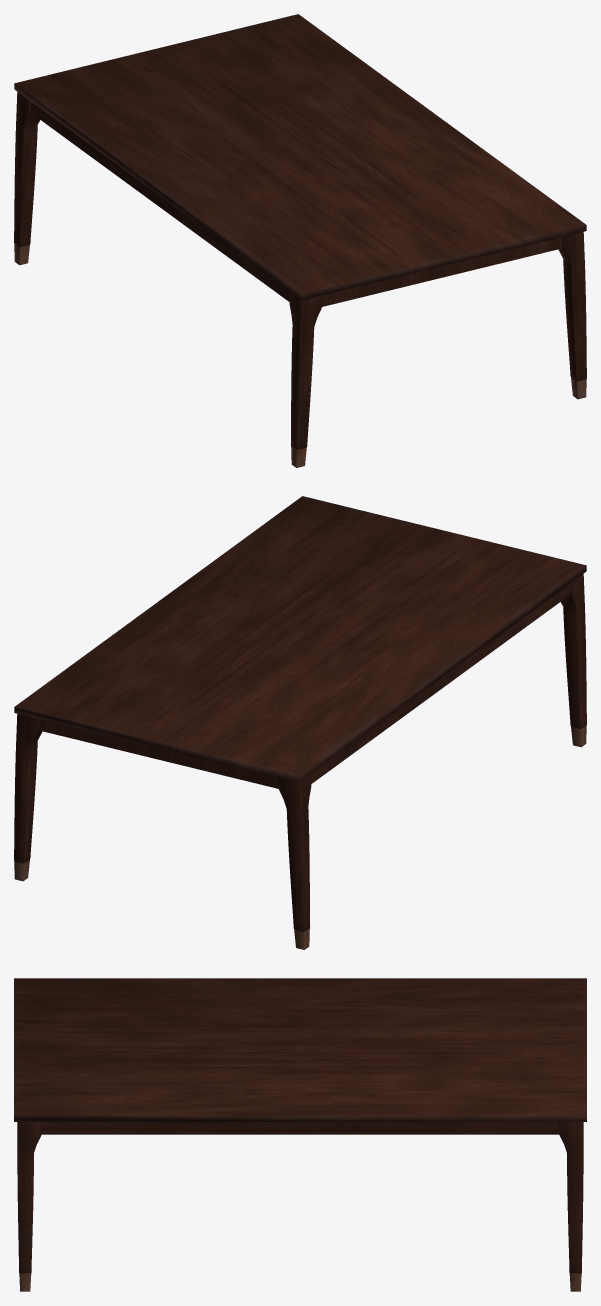
Rendered from dining_room_table.fbx.
3 views of the same model, one above another, from view 1: azimuth 30°, elevation 25°; view 2: azimuth 150°, elevation 25°; view 3: azimuth 270°, elevation 25° (orthographic).
Visible parts, largest first — view 1: Cube.006; view 2: Cube.006; view 3: Cube.006.
Part boxes in pixels (x1,y1,x2,y2): Cube.006: (14,14,586,467); Cube.006: (14,496,586,949); Cube.006: (14,978,586,1291).
Size of the model in its own units: 142 by 81.84 by 244.
